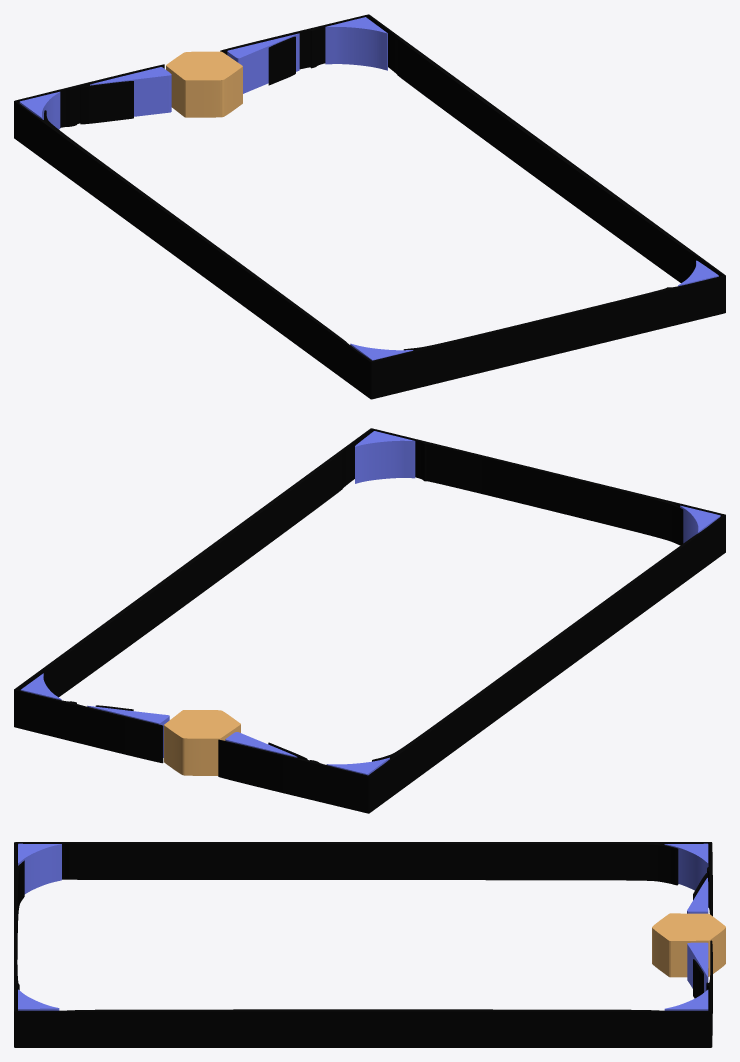
The picture shows the model from 3 angles, top to bottom: view 1: azimuth 30°, elevation 25°; view 2: azimuth 150°, elevation 25°; view 3: azimuth 270°, elevation 25°; orthographic projection. The views are drawn at different scales.
Parts seen in each view (by area): view 1: imagetostl_mesh0, imagetostl_mesh1, imagetostl_mesh18, imagetostl_mesh12, imagetostl_mesh2, imagetostl_mesh19, imagetostl_mesh6, imagetostl_mesh8, imagetostl_mesh4; view 2: imagetostl_mesh0, imagetostl_mesh1, imagetostl_mesh16, imagetostl_mesh18, imagetostl_mesh19; view 3: imagetostl_mesh0, imagetostl_mesh1, imagetostl_mesh18, imagetostl_mesh19, imagetostl_mesh14, imagetostl_mesh10, imagetostl_mesh7, imagetostl_mesh9, imagetostl_mesh13, imagetostl_mesh11, imagetostl_mesh8, imagetostl_mesh15 (+1 smaller).
Boxes of the visible parts, bbox=[...] form: imagetostl_mesh0: bbox=[14, 15, 725, 399]; imagetostl_mesh1: bbox=[14, 14, 725, 362]; imagetostl_mesh18: bbox=[166, 66, 242, 117]; imagetostl_mesh12: bbox=[325, 27, 387, 70]; imagetostl_mesh2: bbox=[80, 81, 133, 124]; imagetostl_mesh19: bbox=[166, 51, 242, 80]; imagetostl_mesh6: bbox=[90, 75, 171, 116]; imagetostl_mesh8: bbox=[227, 33, 299, 93]; imagetostl_mesh4: bbox=[268, 37, 295, 85]; imagetostl_mesh0: bbox=[14, 429, 725, 813]; imagetostl_mesh1: bbox=[14, 428, 725, 776]; imagetostl_mesh16: bbox=[355, 440, 415, 483]; imagetostl_mesh18: bbox=[164, 724, 240, 775]; imagetostl_mesh19: bbox=[164, 710, 240, 738]; imagetostl_mesh0: bbox=[14, 843, 712, 1047]; imagetostl_mesh1: bbox=[14, 842, 712, 1011]; imagetostl_mesh18: bbox=[652, 928, 725, 977]; imagetostl_mesh19: bbox=[652, 913, 725, 940]; imagetostl_mesh14: bbox=[18, 844, 61, 894]; imagetostl_mesh10: bbox=[664, 844, 708, 890]; imagetostl_mesh7: bbox=[687, 878, 708, 911]; imagetostl_mesh9: bbox=[687, 942, 708, 976]; imagetostl_mesh13: bbox=[665, 990, 708, 1008]; imagetostl_mesh11: bbox=[665, 843, 708, 862]; imagetostl_mesh8: bbox=[687, 944, 708, 992]; imagetostl_mesh15: bbox=[18, 843, 60, 862].
Size of the model in its own units: 10000 by 1000 by 17765.
